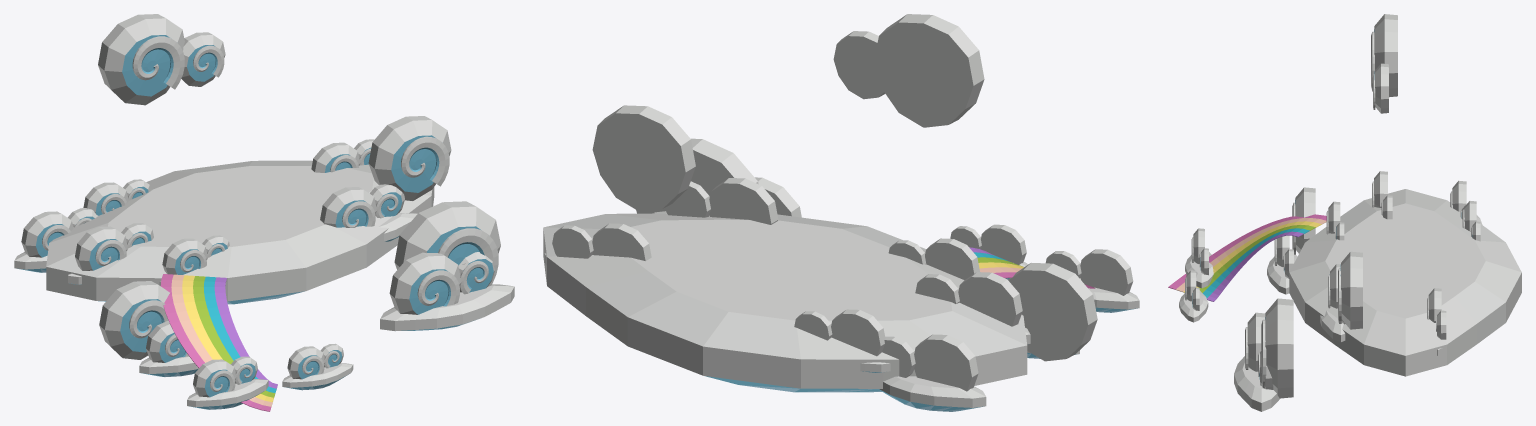
File: decoration.glb
3 views of the same model, side by side, from view 1: azimuth 30°, elevation 25°; view 2: azimuth 150°, elevation 25°; view 3: azimuth 270°, elevation 25° (orthographic). The views are drawn at different scales.
Visible parts, largest first — view 1: 11_R3B_Factory_FoldedCloudMasses, 11_R3B_Factory_RainbowOutlet; view 2: 11_R3B_Factory_FoldedCloudMasses, 11_R3B_Factory_RainbowOutlet; view 3: 11_R3B_Factory_FoldedCloudMasses, 11_R3B_Factory_RainbowOutlet.
Boxes of the visible parts, bbox=[...] form: 11_R3B_Factory_FoldedCloudMasses: bbox=[14, 14, 514, 409]; 11_R3B_Factory_RainbowOutlet: bbox=[160, 274, 277, 411]; 11_R3B_Factory_FoldedCloudMasses: bbox=[543, 14, 1139, 411]; 11_R3B_Factory_RainbowOutlet: bbox=[969, 247, 1095, 288]; 11_R3B_Factory_FoldedCloudMasses: bbox=[1179, 14, 1521, 411]; 11_R3B_Factory_RainbowOutlet: bbox=[1168, 214, 1326, 301].
Size of the model in its own units: 1.46 by 1.1 by 1.3.
